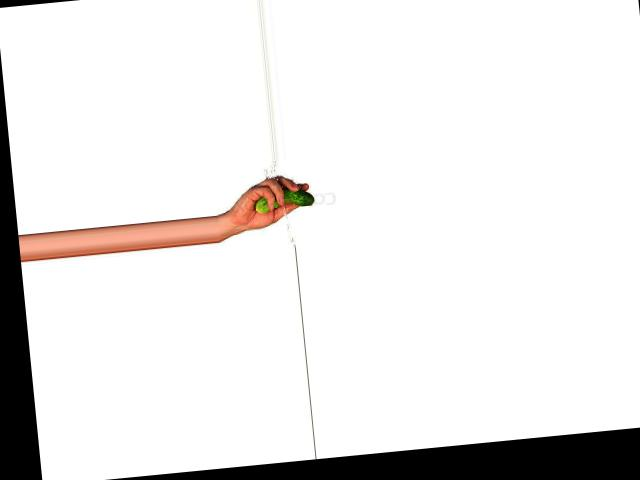cucumber: (253, 185, 315, 213)
